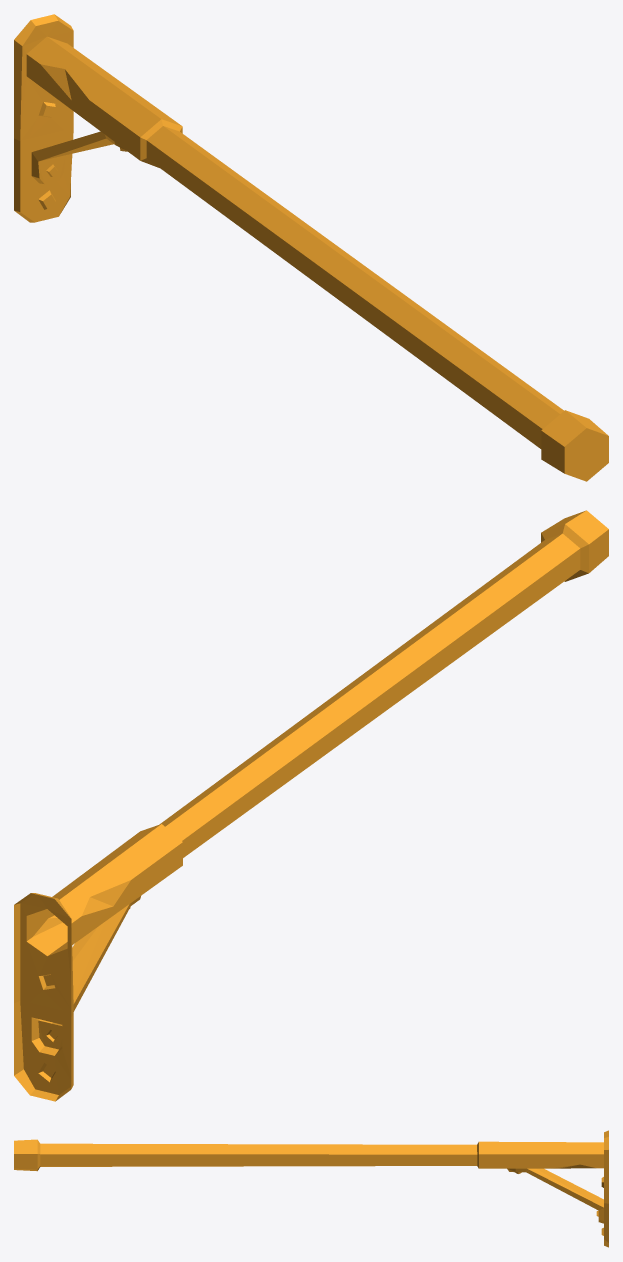
File: SM_Flag_Stand_Wood_Wall_C_Fantasy.fbx
3 views of the same model, one above another, from view 1: azimuth 30°, elevation 25°; view 2: azimuth 150°, elevation 25°; view 3: azimuth 270°, elevation 25° (orthographic). The views are drawn at different scales.
Visible parts, largest first — view 1: flag-stand-wood-wall-c-fantasy; view 2: flag-stand-wood-wall-c-fantasy; view 3: flag-stand-wood-wall-c-fantasy.
Boxes of the visible parts, left/top/right/bottom form: flag-stand-wood-wall-c-fantasy: left=14, top=14, right=608, bottom=481; flag-stand-wood-wall-c-fantasy: left=14, top=510, right=608, bottom=1101; flag-stand-wood-wall-c-fantasy: left=14, top=1130, right=608, bottom=1247.
Size of the model in its own units: 0.0812 by 0.2749 by 1.34.
